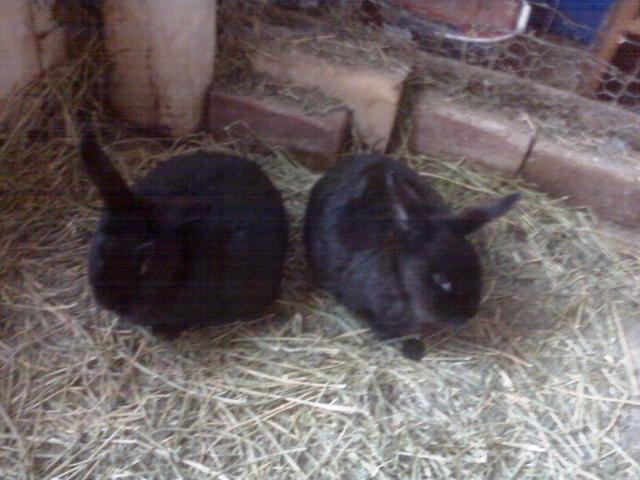rabbit: (28, 122, 298, 352), (249, 151, 551, 355)
